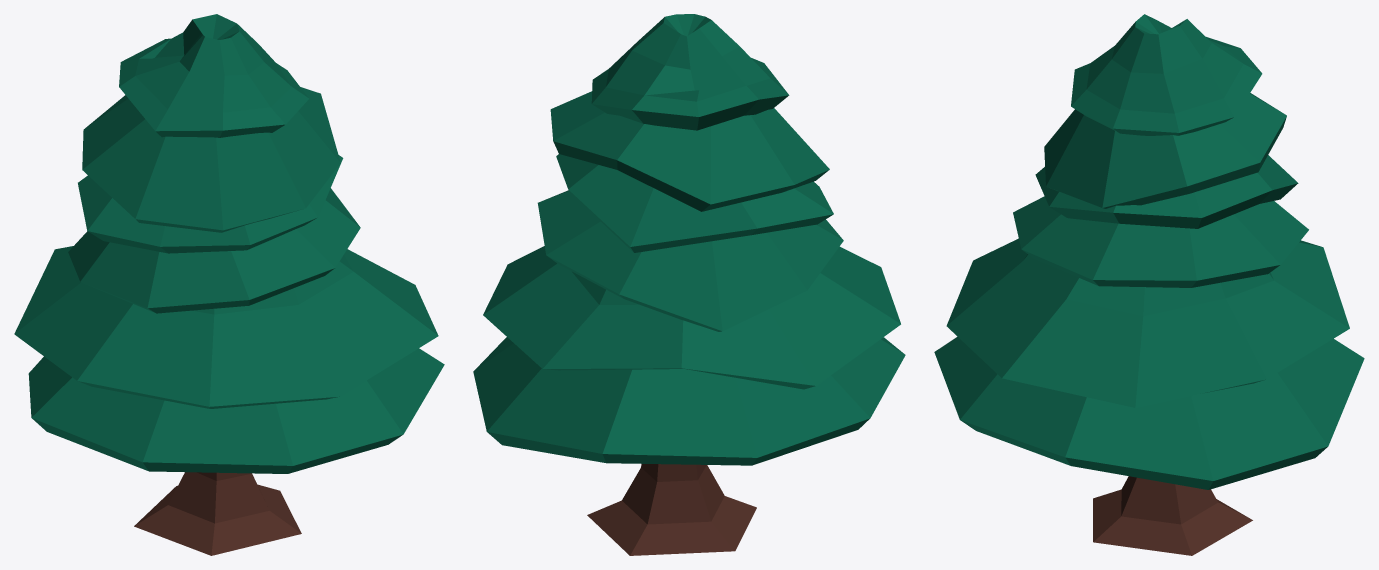
Rendered from tree_2.fbx.
3 renders of one model, left to right at view 1: azimuth 30°, elevation 25°; view 2: azimuth 150°, elevation 25°; view 3: azimuth 270°, elevation 25°, orthographic.
Parts seen in each view (by area): view 1: Tree_Bottom1, Tree_Bottom1.001; view 2: Tree_Bottom1, Tree_Bottom1.001; view 3: Tree_Bottom1, Tree_Bottom1.001.
Part boxes in pixels (x1,y1,x2,y2): Tree_Bottom1: (14, 14, 444, 473); Tree_Bottom1.001: (134, 472, 301, 555); Tree_Bottom1: (473, 14, 905, 465); Tree_Bottom1.001: (587, 464, 756, 555); Tree_Bottom1: (934, 14, 1364, 489); Tree_Bottom1.001: (1093, 476, 1252, 555).
Bounding box in the file's own units: 192 × 246 × 193.
